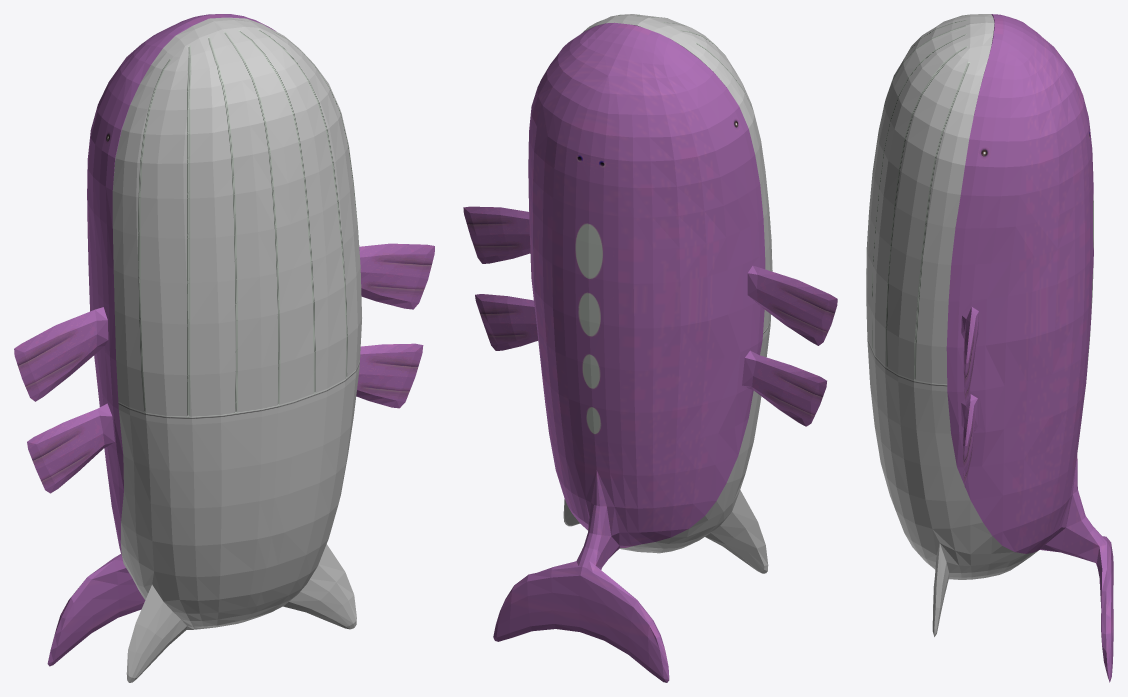
The model's file is BR_Wailord-Shiny01.obj.
The picture shows the model from 3 angles, left to right: view 1: azimuth 30°, elevation 25°; view 2: azimuth 150°, elevation 25°; view 3: azimuth 270°, elevation 25°; orthographic projection. The views are drawn at different scales.
Parts seen in each view (by area): view 1: whaloh; view 2: whaloh; view 3: whaloh.
Boxes of the visible parts, x1,y1,x2,y2 form: whaloh: [14, 14, 434, 682]; whaloh: [463, 14, 837, 682]; whaloh: [866, 14, 1113, 682].
Size of the model in its own units: 95.02 by 145 by 52.66.
Materials: 3 (3 with a texture image).
